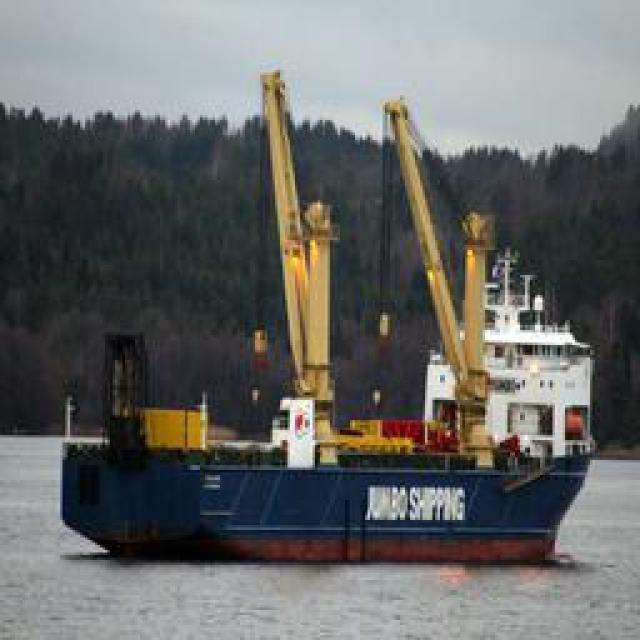Ship: (48, 75, 613, 573)
